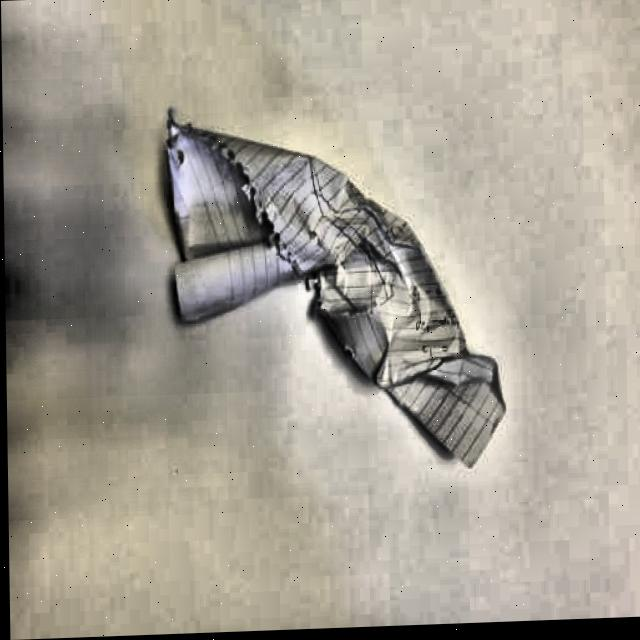paper: (154, 92, 508, 481)
